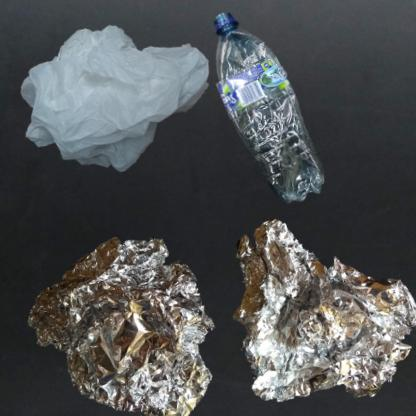aluminio: (10, 213, 246, 416), (213, 213, 416, 416)
bolsa: (10, 10, 233, 193)
botella: (213, 10, 326, 206)
